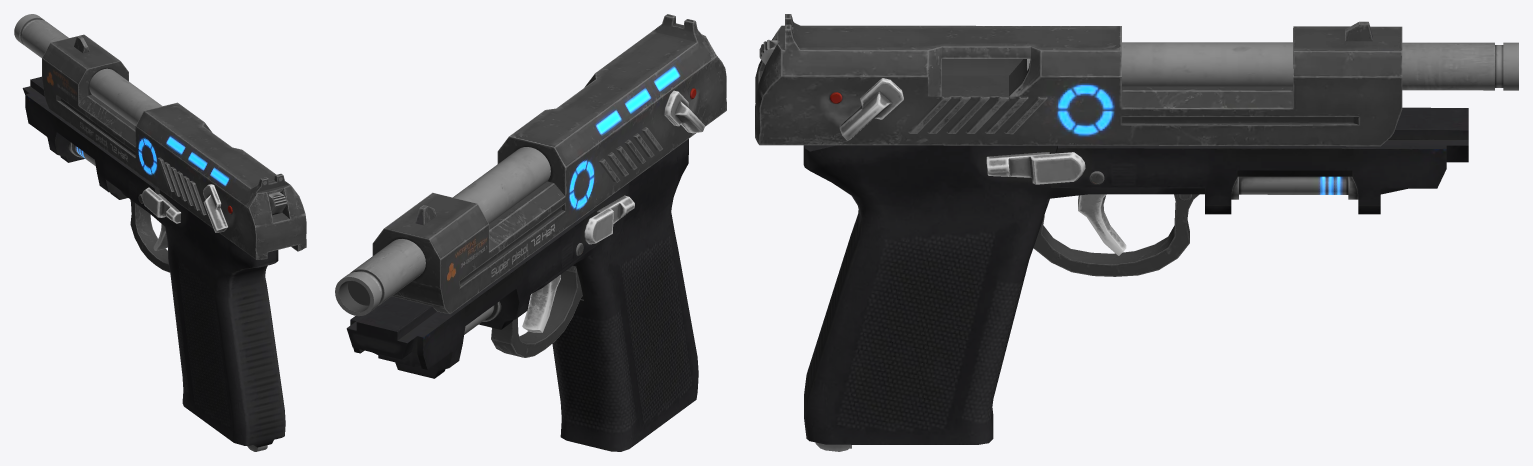
Rendered from pistol.glb.
3 views of the same model, side by side, from view 1: azimuth 30°, elevation 25°; view 2: azimuth 150°, elevation 25°; view 3: azimuth 270°, elevation 25° (orthographic). The views are drawn at different scales.
Parts seen in each view (by area): view 1: pistol; view 2: pistol; view 3: pistol.
Part boxes in pixels (box(x1,y1,x2,y2)): pistol: box(14, 14, 306, 451); pistol: box(335, 14, 726, 451); pistol: box(755, 14, 1518, 451).
Size of the model in its own units: 0.0336 by 0.1233 by 0.2.
Materials: 1 (1 with a texture image).
